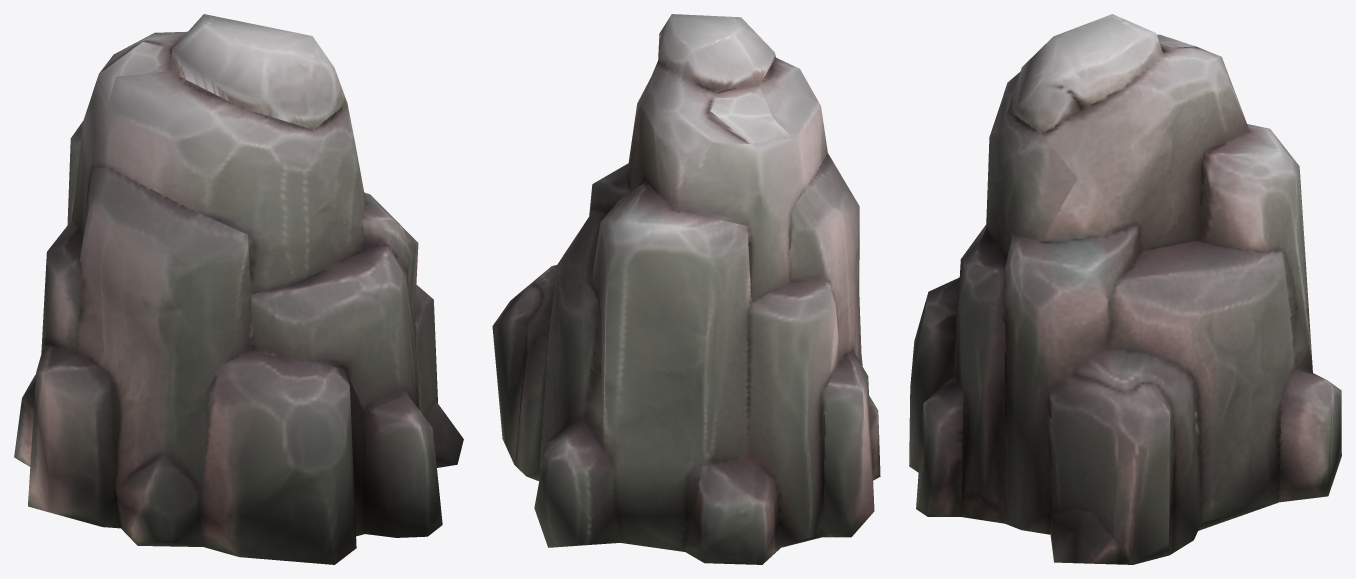
The model's file is Big 1.fbx.
3 views of the same model, side by side, from view 1: azimuth 30°, elevation 25°; view 2: azimuth 150°, elevation 25°; view 3: azimuth 270°, elevation 25° (orthographic). The views are drawn at different scales.
Parts seen in each view (by area): view 1: BIG_1; view 2: BIG_1; view 3: BIG_1.
Part boxes in pixels (<box>): BIG_1: <box>14,14,463,564</box>; BIG_1: <box>492,14,880,564</box>; BIG_1: <box>909,14,1341,564</box>.
Size of the model in its own units: 490 by 564 by 493.
